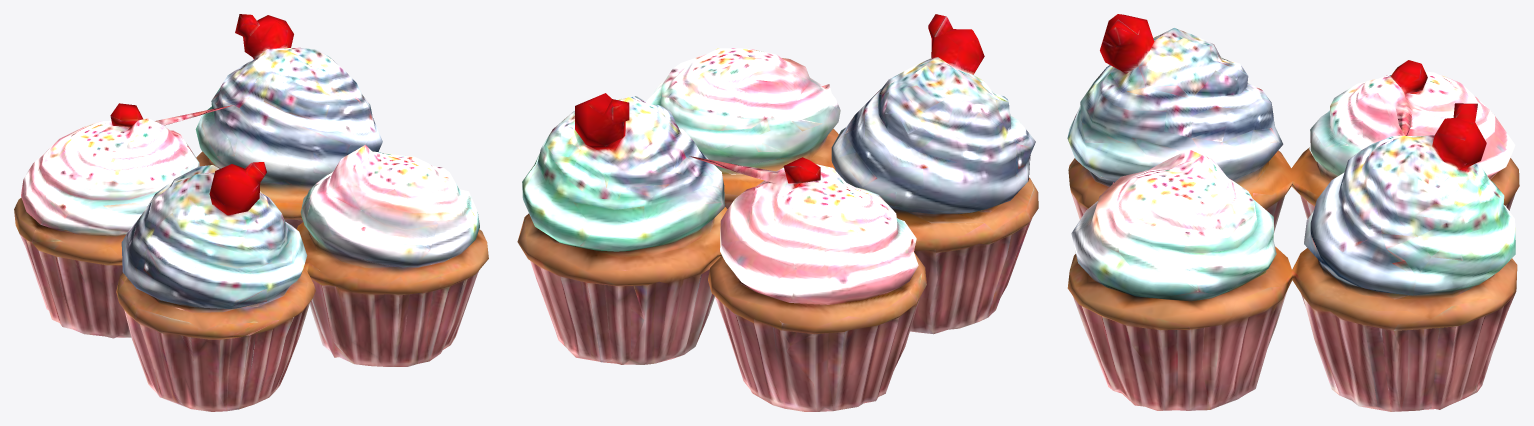
File: barrier_low.glb
3 views of the same model, side by side, from view 1: azimuth 30°, elevation 25°; view 2: azimuth 150°, elevation 25°; view 3: azimuth 270°, elevation 25° (orthographic). The views are drawn at different scales.
Visible parts, largest first — view 1: Mesh_0; view 2: Mesh_0; view 3: Mesh_0.
Part boxes in pixels (x1,y1,x2,y2): Mesh_0: [14, 14, 488, 411]; Mesh_0: [517, 14, 1038, 411]; Mesh_0: [1067, 14, 1519, 411].
Size of the model in its own units: 1.93 by 1.28 by 1.92.
Materials: 1 (1 with a texture image).
